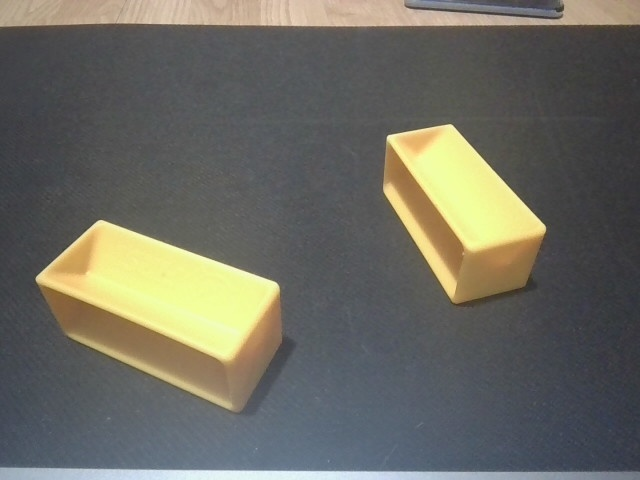YellowSample: (32, 216, 288, 418), (378, 121, 549, 308)
